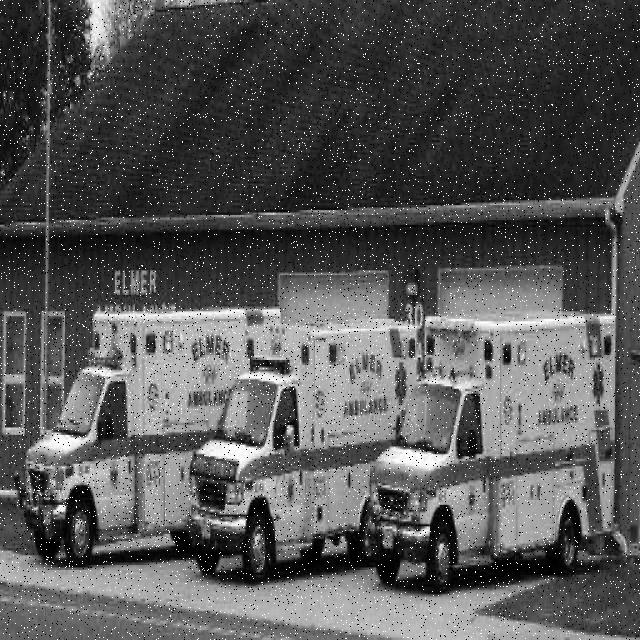Ambulance: (361, 312, 616, 593), (20, 306, 281, 568), (189, 316, 419, 583)
